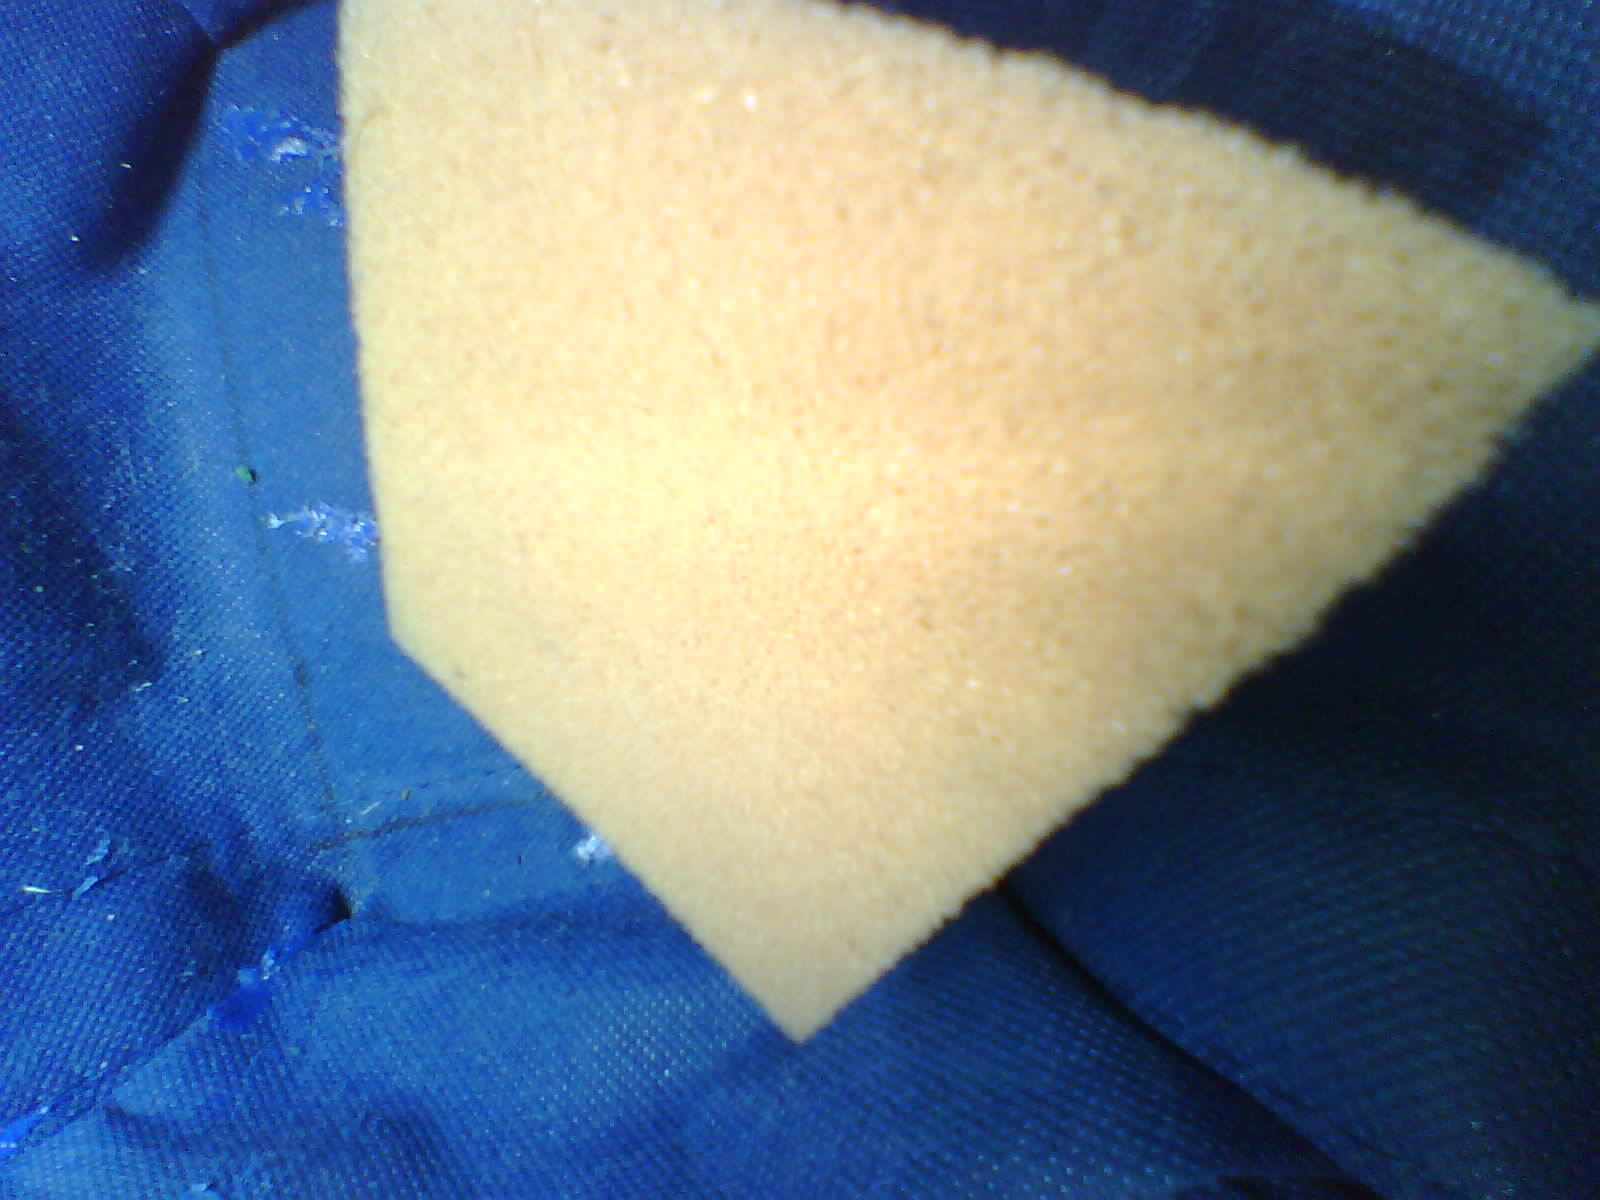cube-soft: (314, 0, 1600, 1064)
